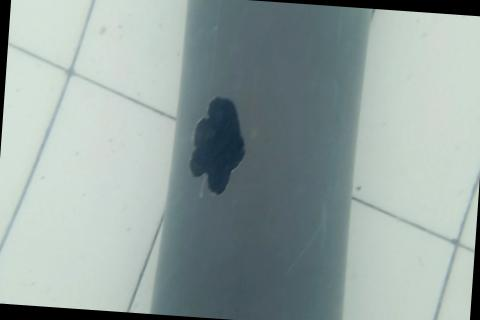kebocoran: (185, 91, 251, 199)
